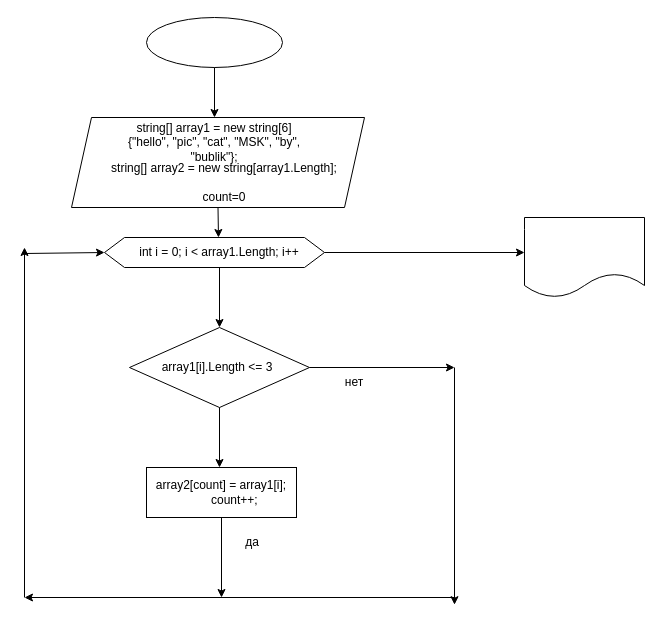
Image size: 662x631. Some labels were removed from this diagram. The shapes that lost their labels are listed below. From the top down, each one's box as (x1, y1, x2, y2) in pixels, then its label:
(146, 16, 282, 68): начало
(524, 216, 644, 298): print aaray2
